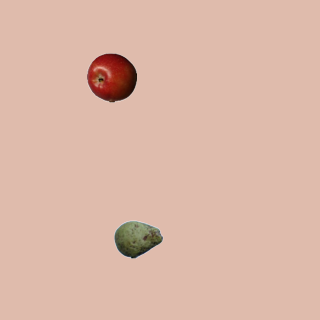Apple Braeburn: (86, 52, 136, 102)
Pear Stone: (113, 214, 163, 264)
